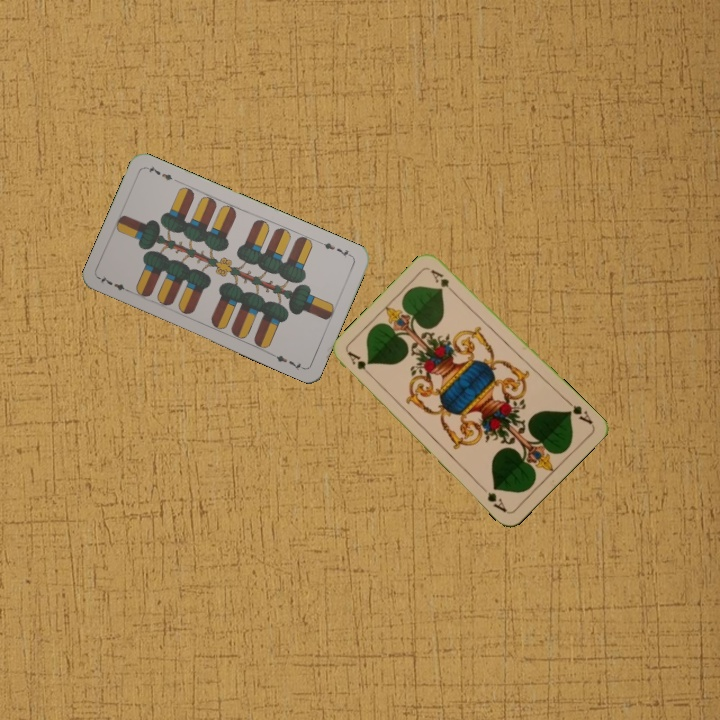E7: (316, 237, 355, 260), (96, 272, 134, 295)
GA: (343, 347, 376, 381), (562, 395, 595, 427)
